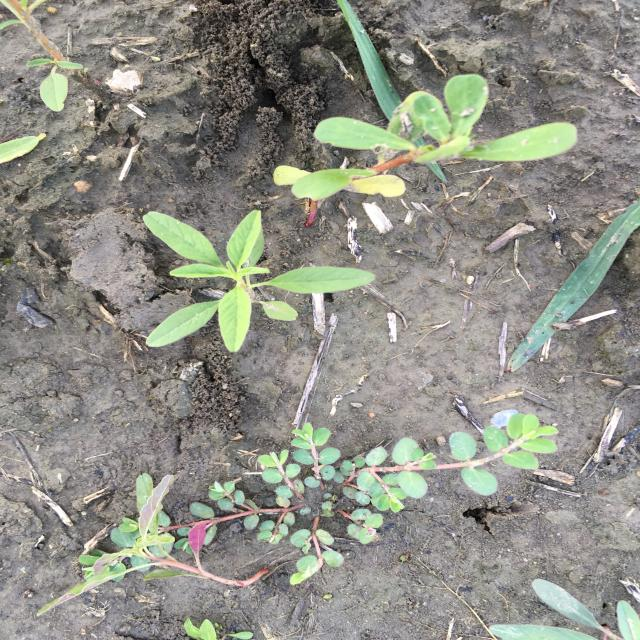Purslane: (272, 74, 580, 229)
SpottedSpurge: (78, 412, 563, 586)
Waterhemp: (140, 209, 378, 354), (482, 576, 638, 639)
